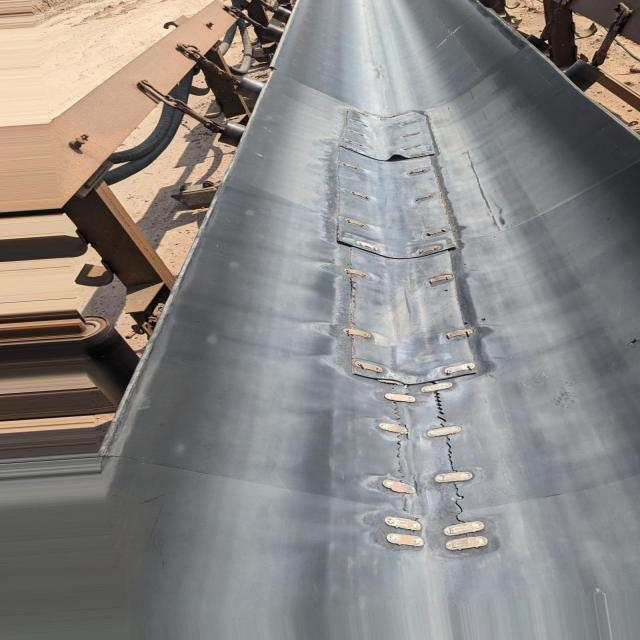patch work: (339, 108, 493, 552)
